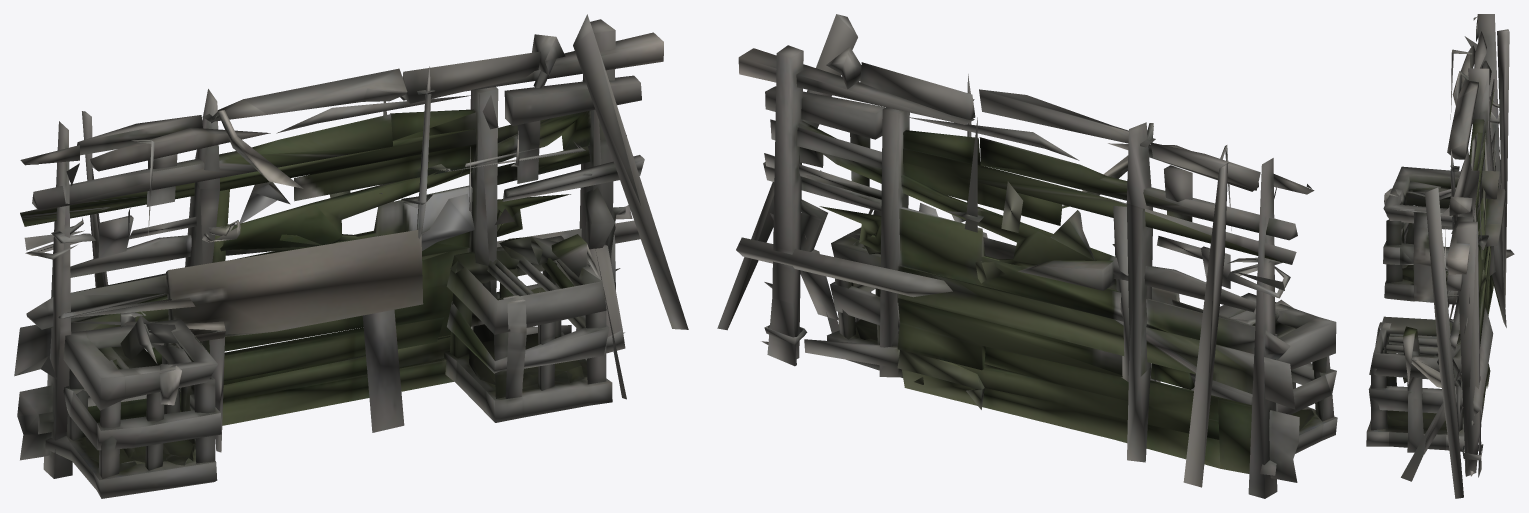
Rendered from plank_barricade.glb.
The picture shows the model from 3 angles, left to right: view 1: azimuth 30°, elevation 25°; view 2: azimuth 150°, elevation 25°; view 3: azimuth 270°, elevation 25°; orthographic projection. The views are drawn at different scales.
Parts seen in each view (by area): view 1: plank_barricade_LOD0; view 2: plank_barricade_LOD0; view 3: plank_barricade_LOD0.
Boxes of the visible parts, x1,y1,x2,y2 form: plank_barricade_LOD0: (14, 14, 688, 498); plank_barricade_LOD0: (717, 14, 1337, 498); plank_barricade_LOD0: (1366, 14, 1514, 498).
Size of what is drawn, in the model's own units: 1.6 by 0.8845 by 0.4128.
1 material, 1 textured.
